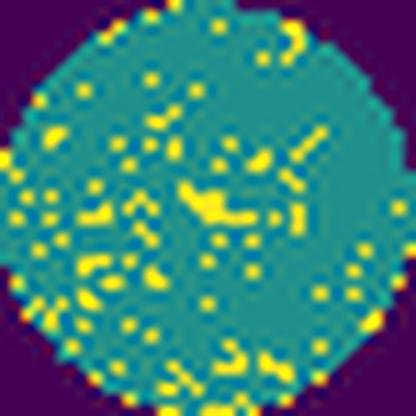Center: (176, 176, 264, 232)
